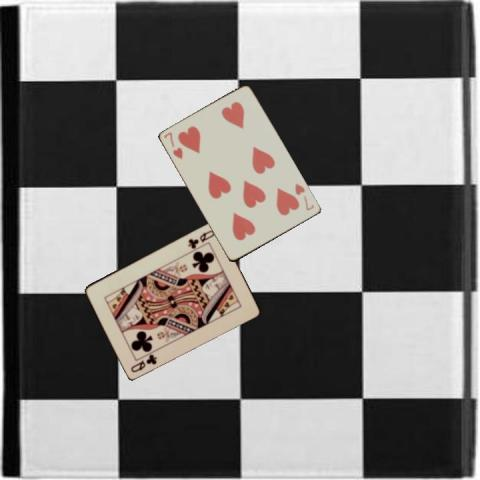7h: (161, 129, 185, 161), (292, 181, 316, 212)
Qc: (128, 351, 158, 374), (185, 227, 216, 249)
